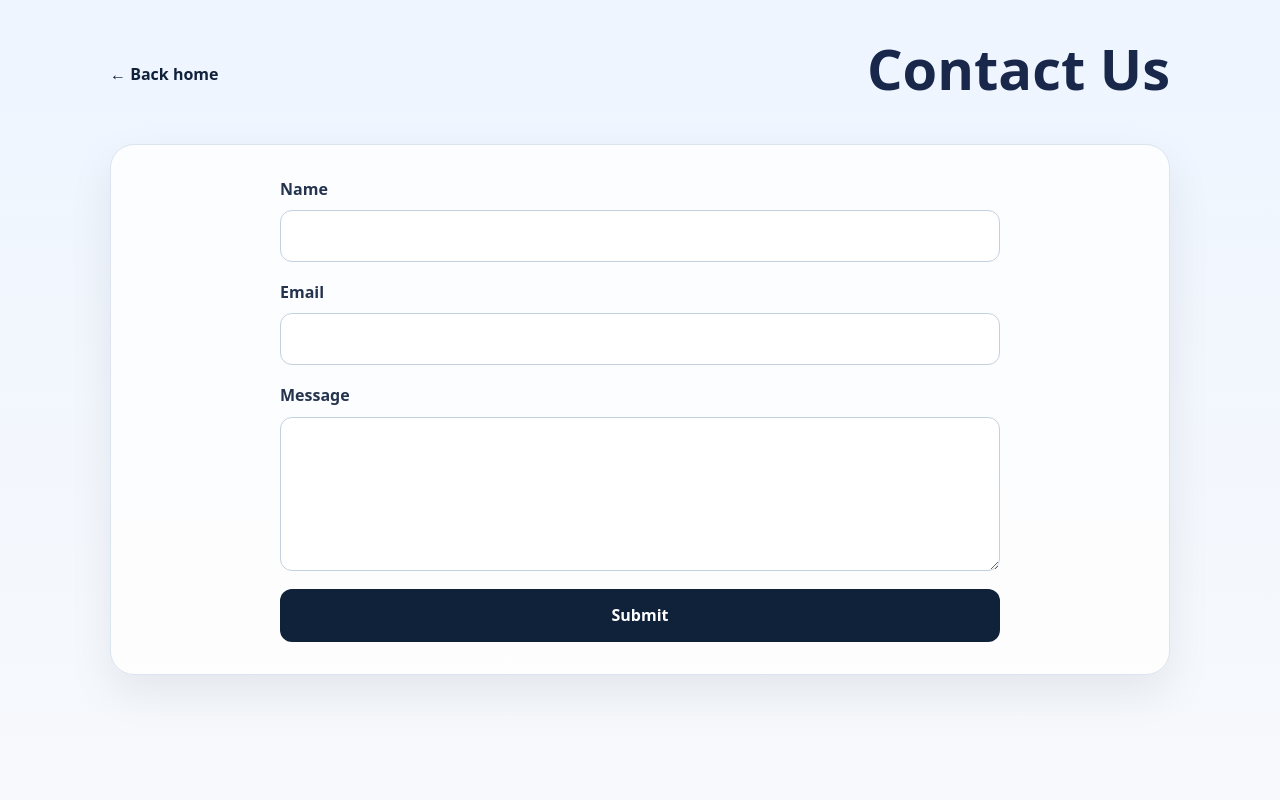
Test case: ContactPage › submits a valid form and shows a thank you message
Type "Jamie Lee" into the field labelled "Name". click: [640, 236]
box: [280,210,1000,262]
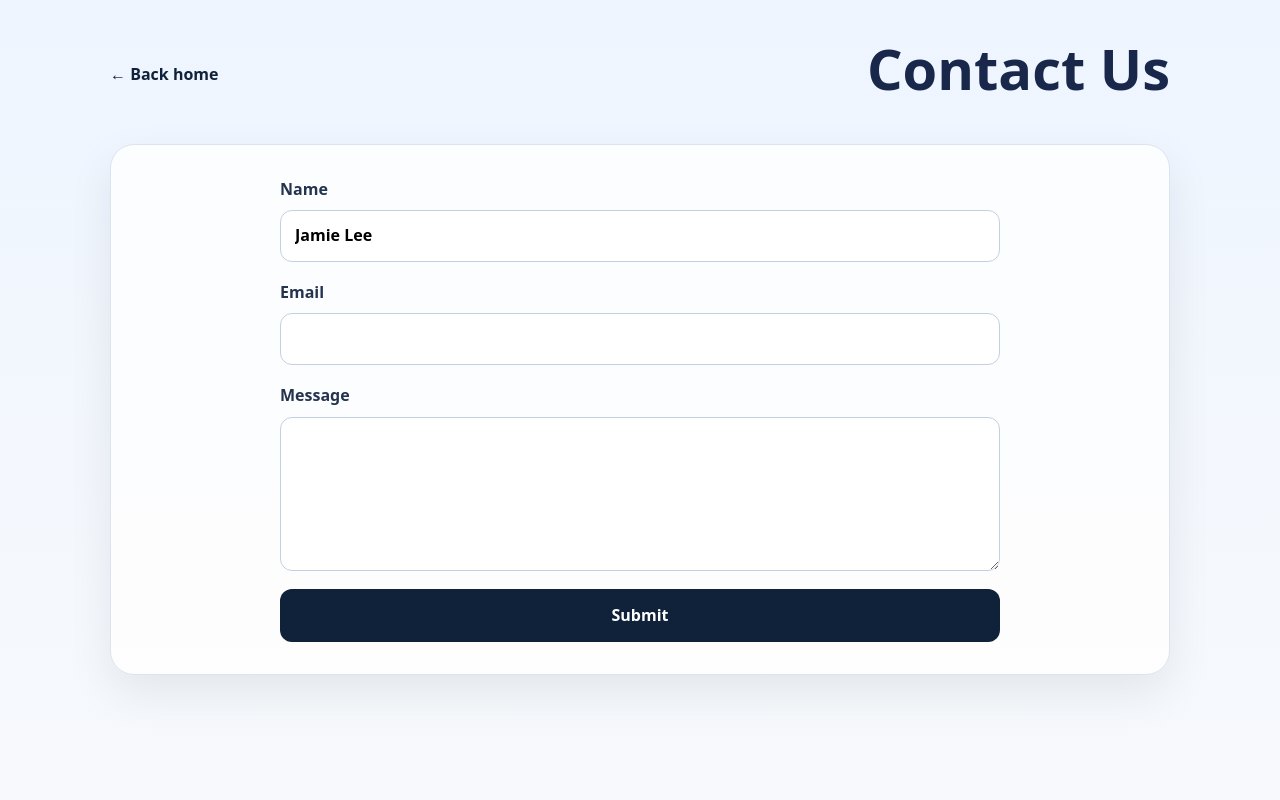
Type "jamie@example.com" into the field labelled "Email". click: [640, 339]
box: [280,313,1000,365]
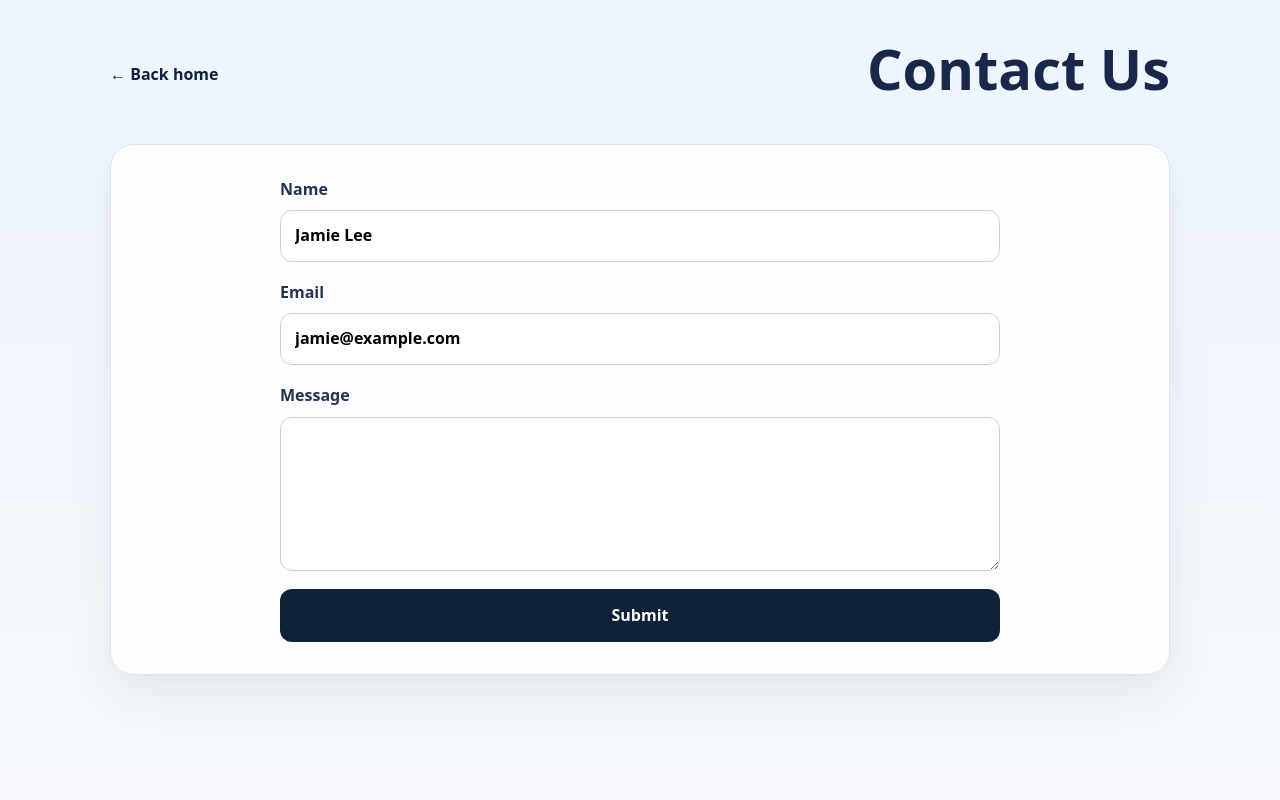
Type "I want to learn more." into the text box labelled "Message". click: [640, 494]
box: [280,417,1000,571]
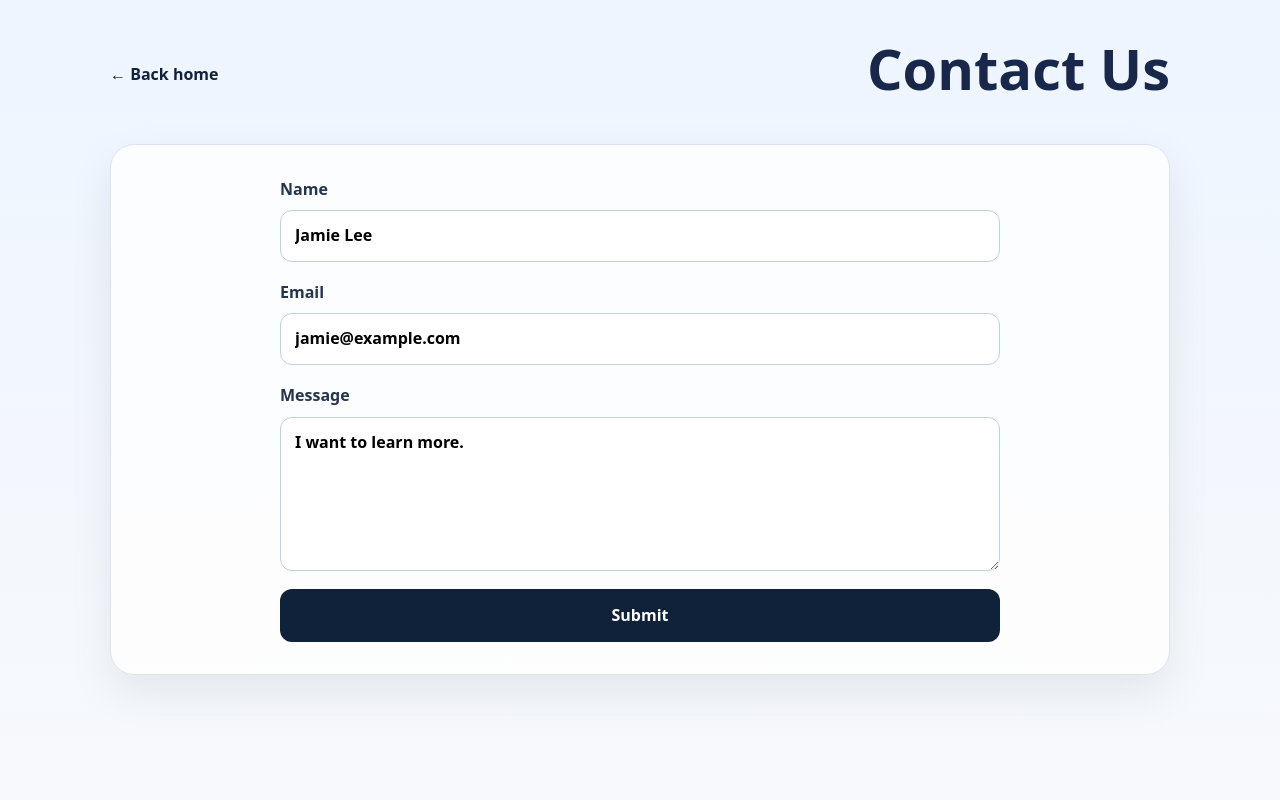
Click the button "Submit". click: [640, 615]
box: [280,588,1000,642]
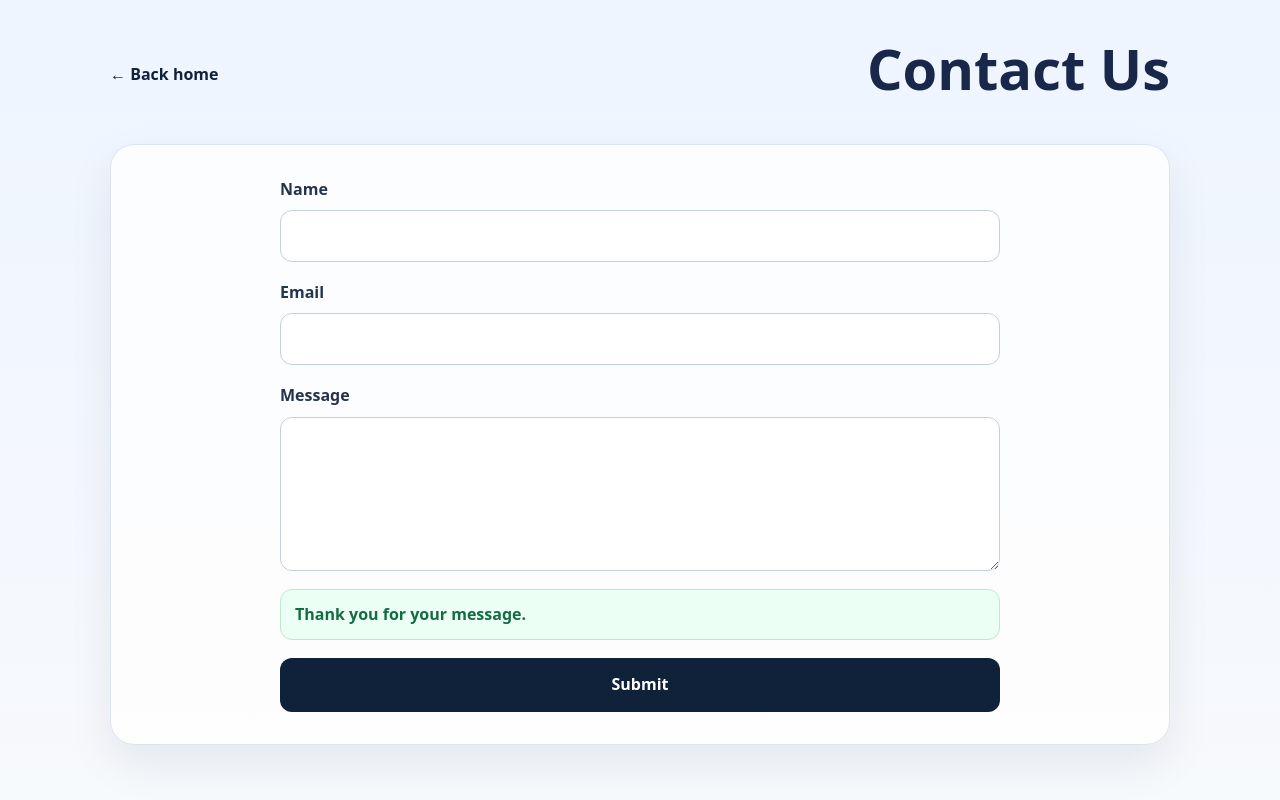
Check: the message reads "Thank you for your message.", box [295,602,526,624]
